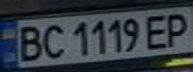1: (66, 19, 90, 56), (87, 17, 109, 55), (106, 16, 127, 53)
9: (121, 15, 145, 53)
B: (12, 22, 45, 63)
C: (36, 21, 69, 61)
E: (139, 11, 175, 51)
P: (160, 9, 193, 47)
